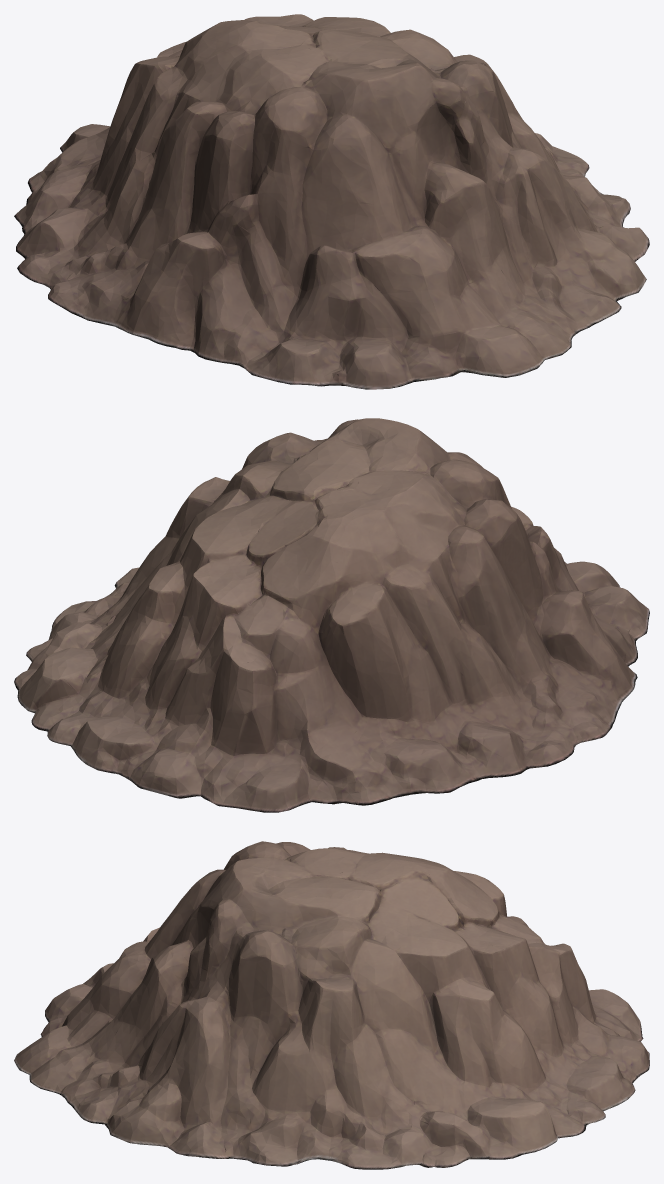
The picture shows the model from 3 angles, top to bottom: view 1: azimuth 30°, elevation 25°; view 2: azimuth 150°, elevation 25°; view 3: azimuth 270°, elevation 25°; orthographic projection. The views are drawn at different scales.
Parts seen in each view (by area): view 1: world; view 2: world; view 3: world.
Boxes of the visible parts, box(x1,y1,x2,y2) form: world: box(14, 14, 649, 389); world: box(14, 418, 649, 812); world: box(14, 841, 649, 1169).
Size of the model in its own units: 0.8772 by 0.3278 by 0.9997.
Materials: 1 (1 with a texture image).
